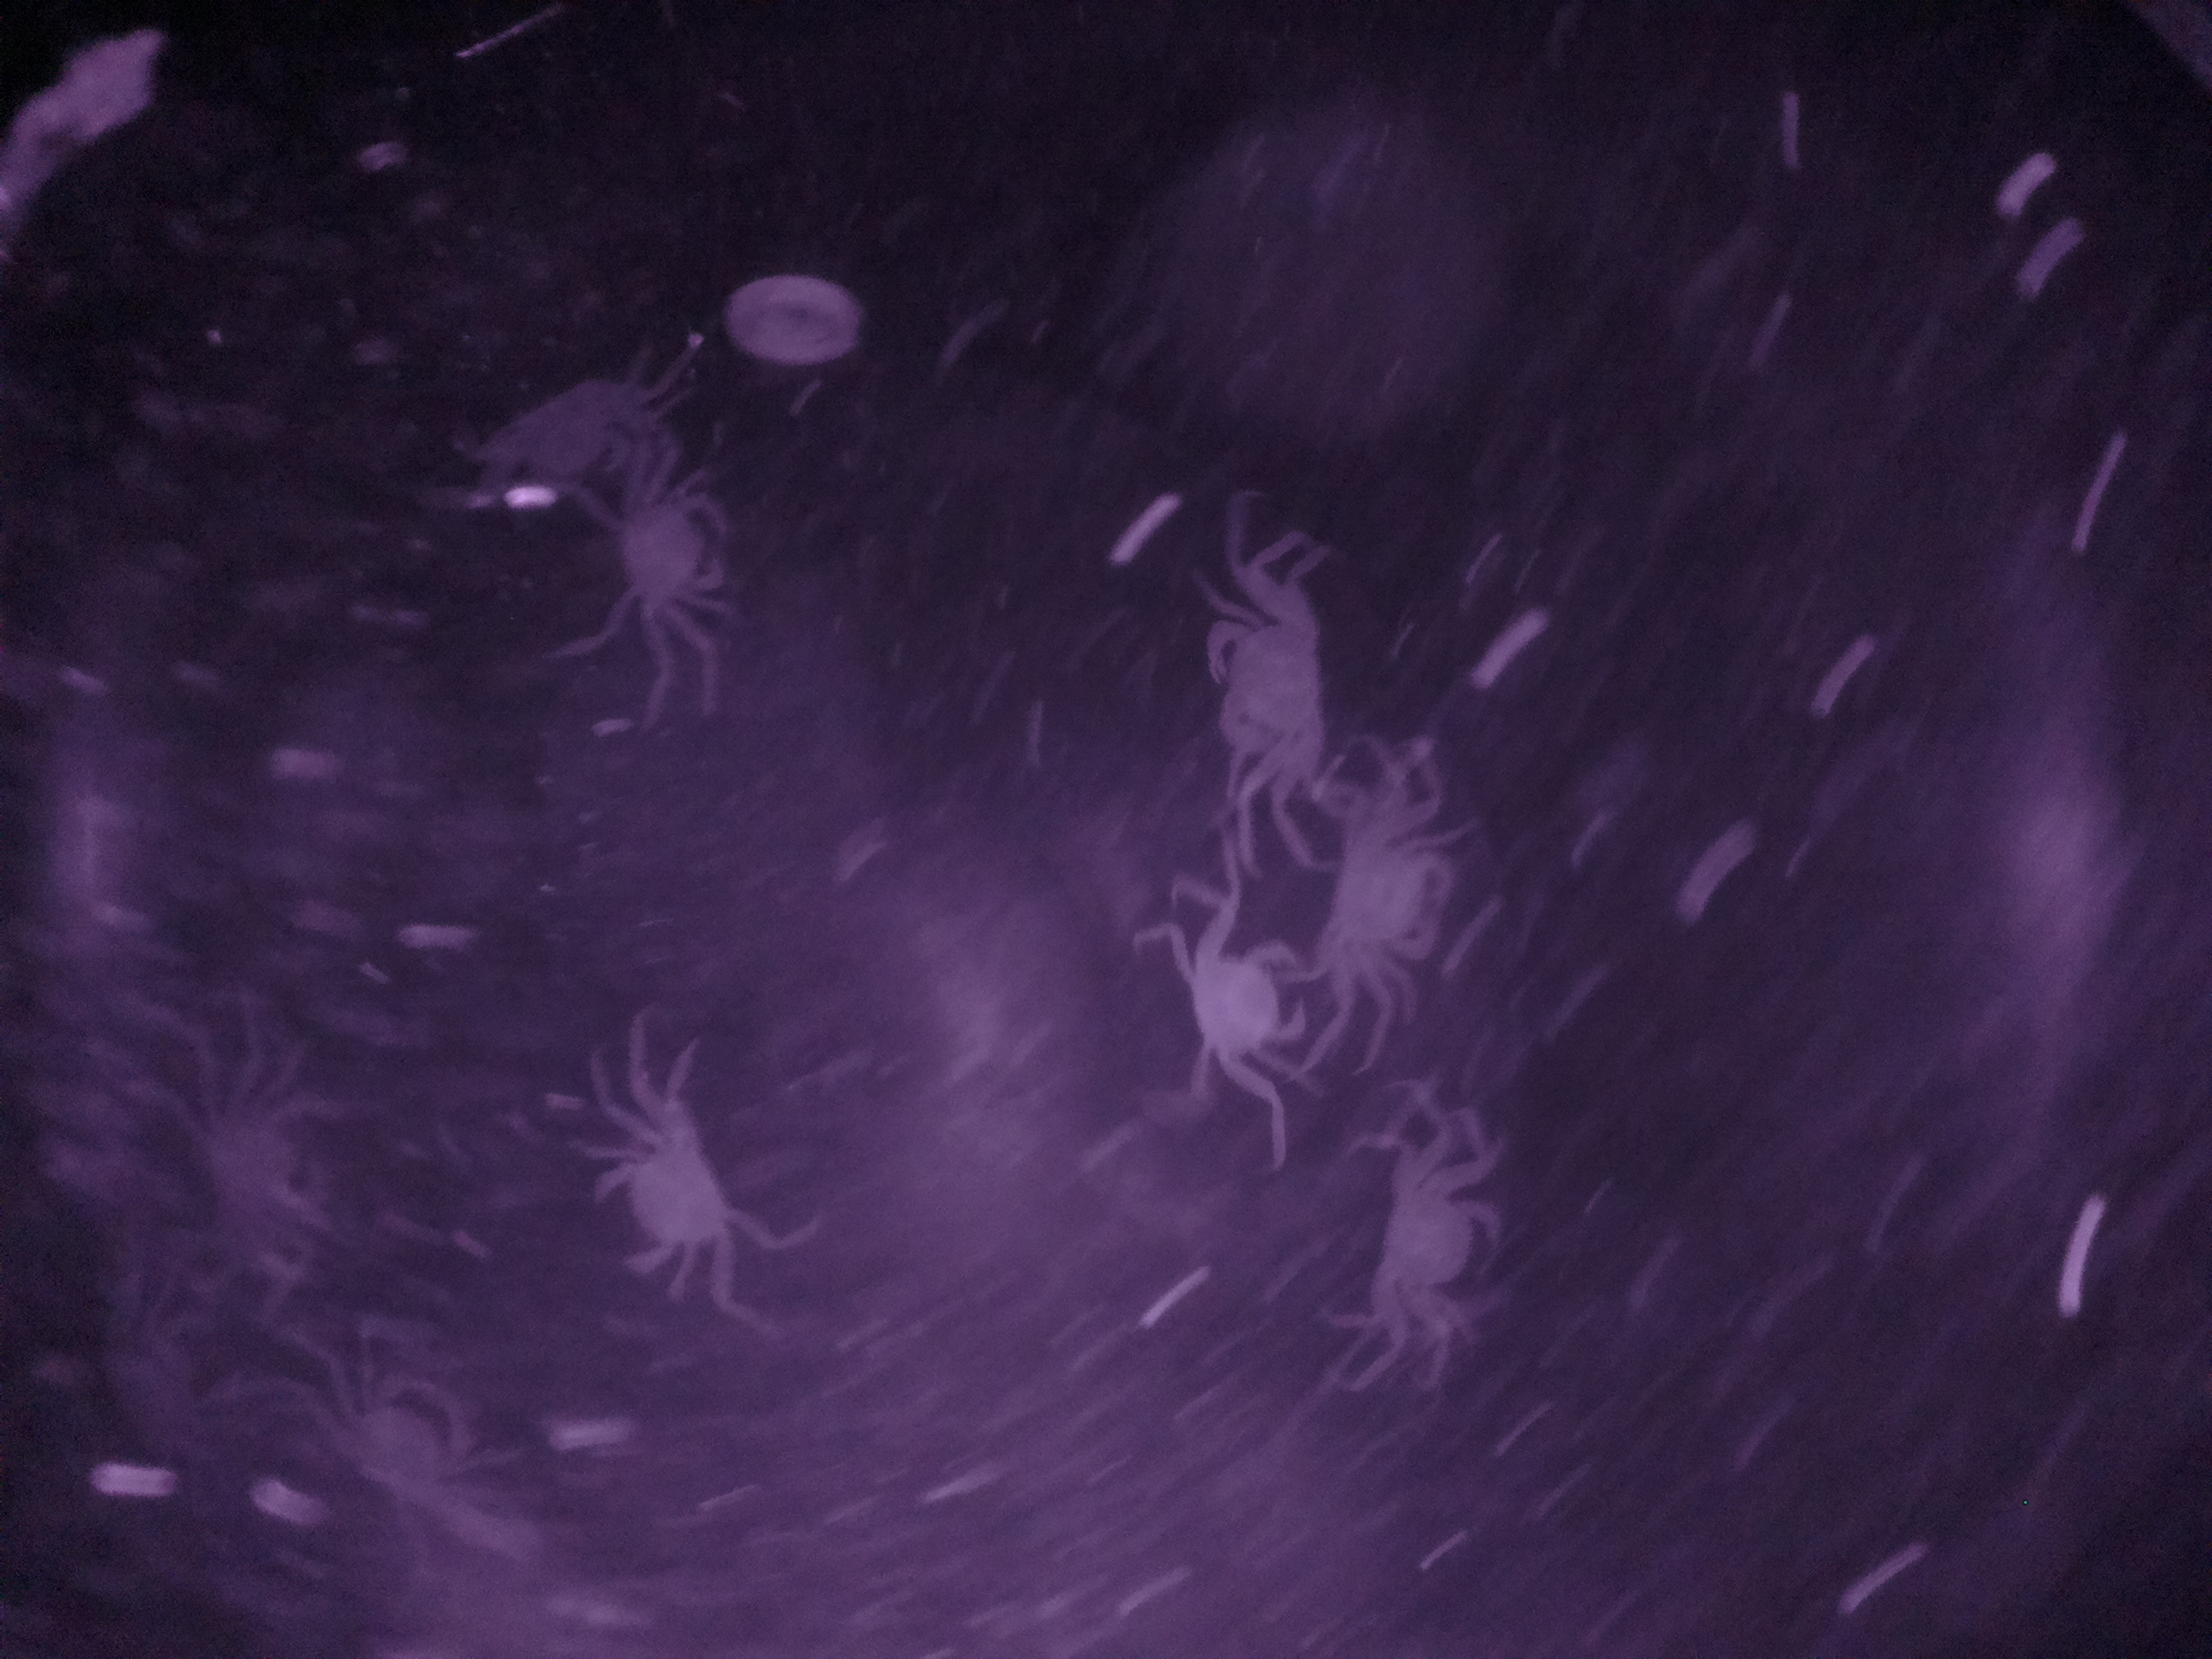Crab: (557, 1087, 763, 1305), (1315, 810, 1482, 1023), (1176, 556, 1336, 777), (1136, 910, 1312, 1107), (1346, 1140, 1519, 1337), (603, 453, 761, 653)
